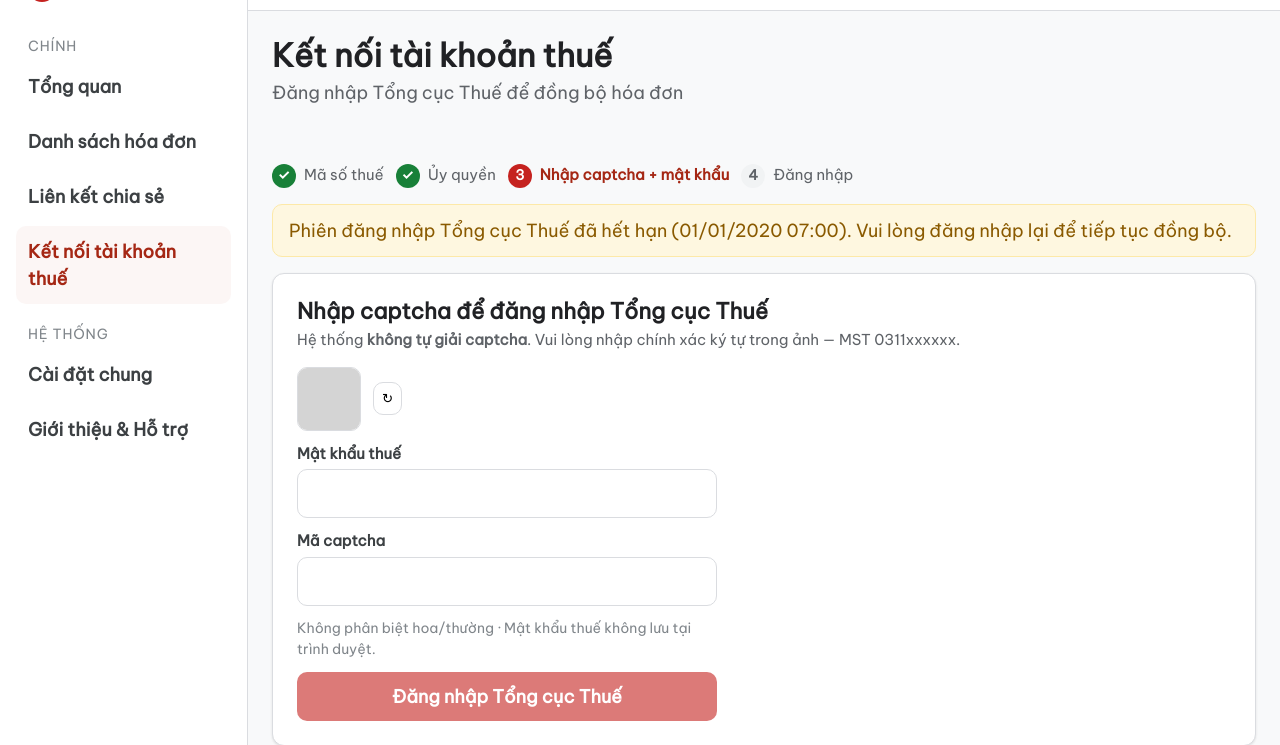
S5 / U23-D4 — kết nối tài khoản thuế › (e) GDT từ chối (422 gdt_tu_choi) → báo sai captcha/mật khẩu, VẪN Ở LẠI trang (không về màn đăng nhập)
In the password field labelled "Mật khẩu thuế": {"x": 507, "y": 494} [297, 469, 717, 518], type "matkhauthue"
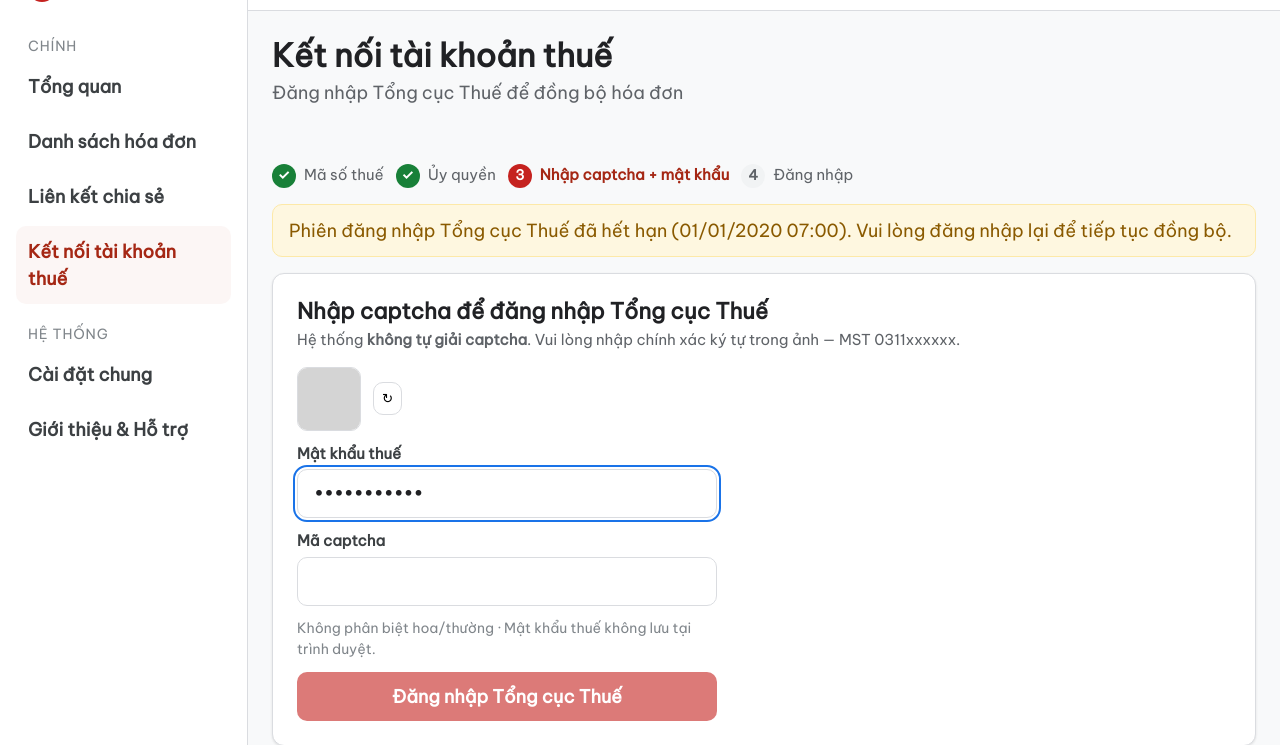
In the field labelled "Mã captcha": {"x": 507, "y": 581} [297, 556, 717, 606], type "SAI00"
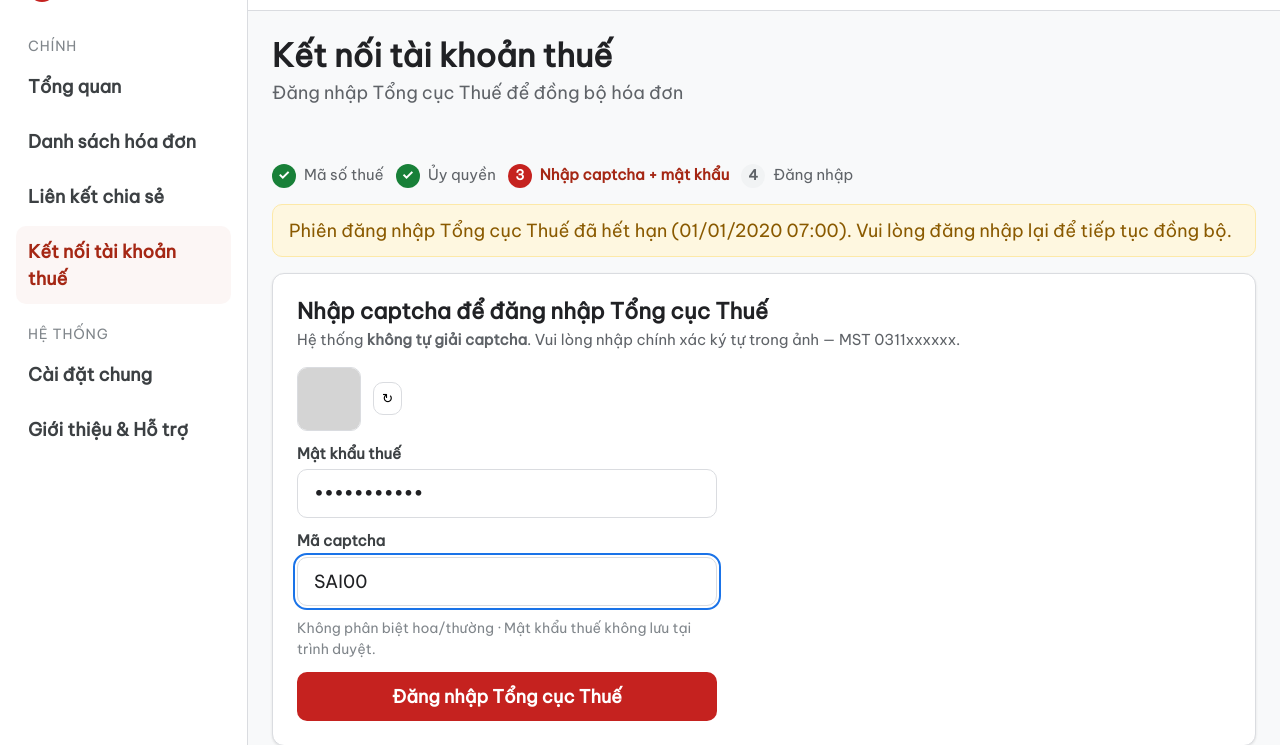
Click the button "Đăng nhập Tổng cục Thuế": {"x": 507, "y": 696} [297, 672, 717, 720]
(page scrolled)
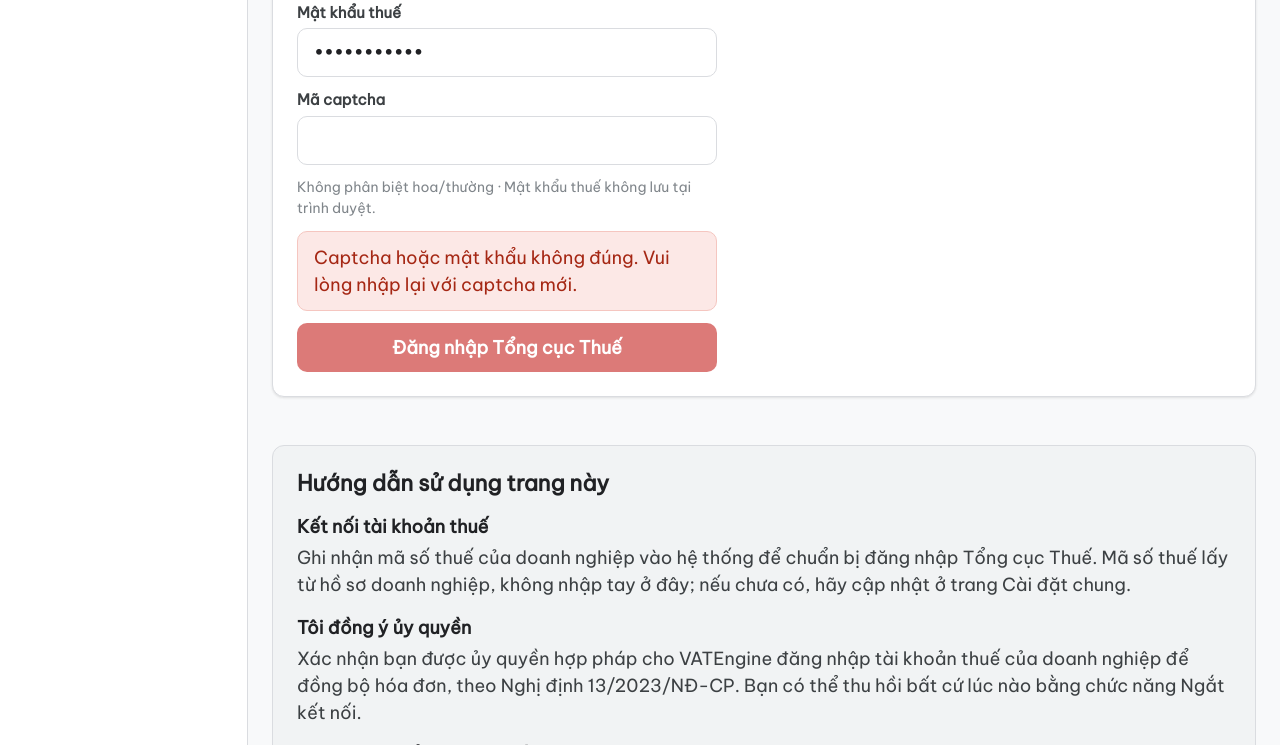
Expected: the button "Đăng nhập Tổng cục Thuế" is shown, [297, 322, 717, 372]
Expected: the text "Captcha hoặc mật khẩu không đúng. Vui lòng nhập lại với captcha mới." is shown, [297, 230, 717, 310]
